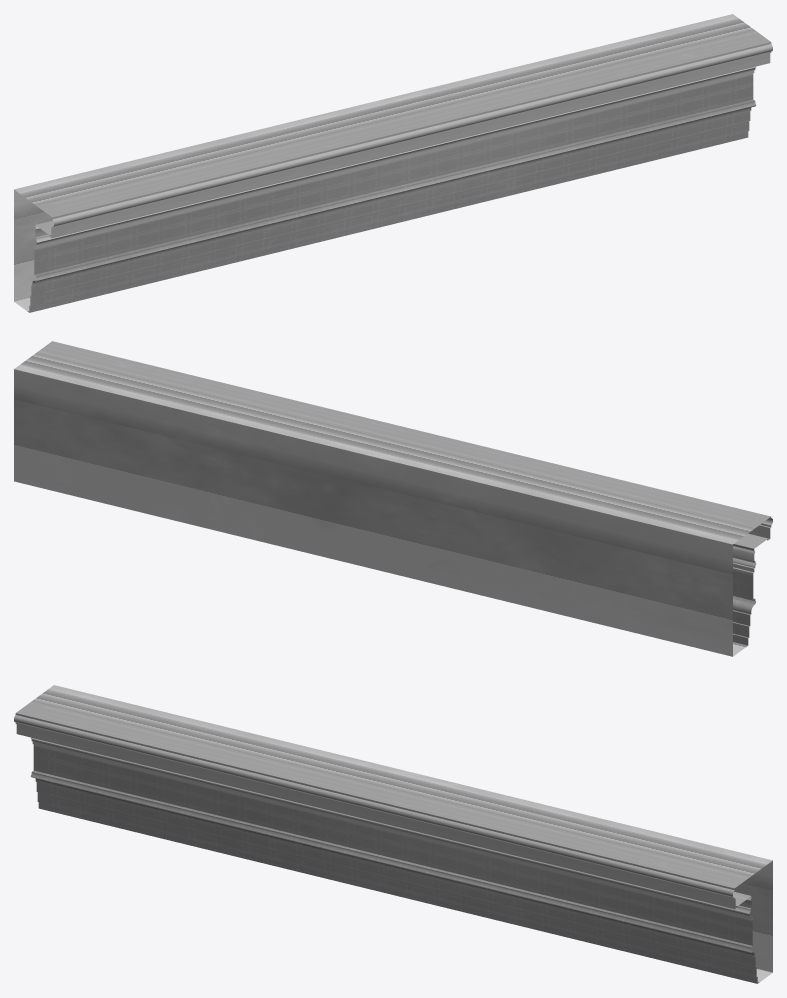
The model's file is topTrim.fbx.
3 renders of one model, top to bottom at view 1: azimuth 30°, elevation 25°; view 2: azimuth 150°, elevation 25°; view 3: azimuth 330°, elevation 25°, orthographic.
Visible parts, largest first — view 1: sweep56; view 2: sweep56; view 3: sweep56.
Boxes of the visible parts, <box> form: sweep56: <box>14,14,772,312</box>; sweep56: <box>14,341,772,656</box>; sweep56: <box>14,685,772,983</box>.
Size of the model in its own units: 1800 by 269 by 174.
